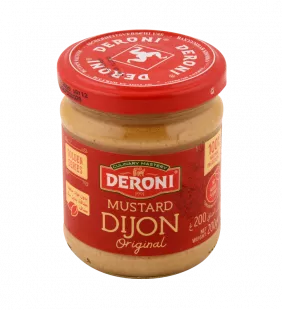Promotion: (51, 20, 236, 284)
